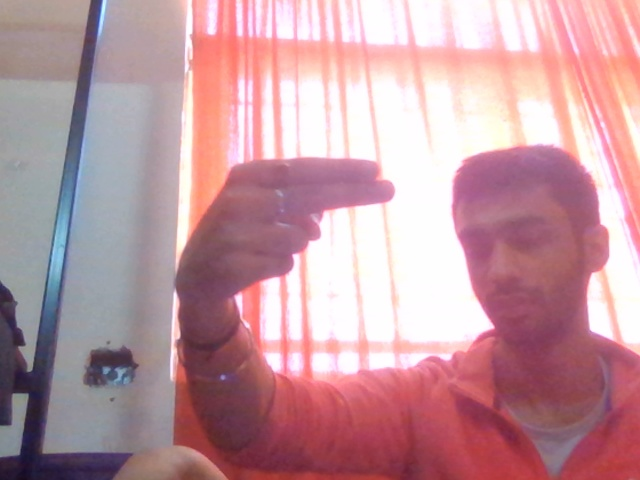H: (121, 149, 408, 334)
